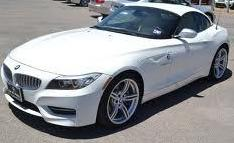front_view: (1, 54, 104, 127)
headlight: (44, 72, 104, 94)
